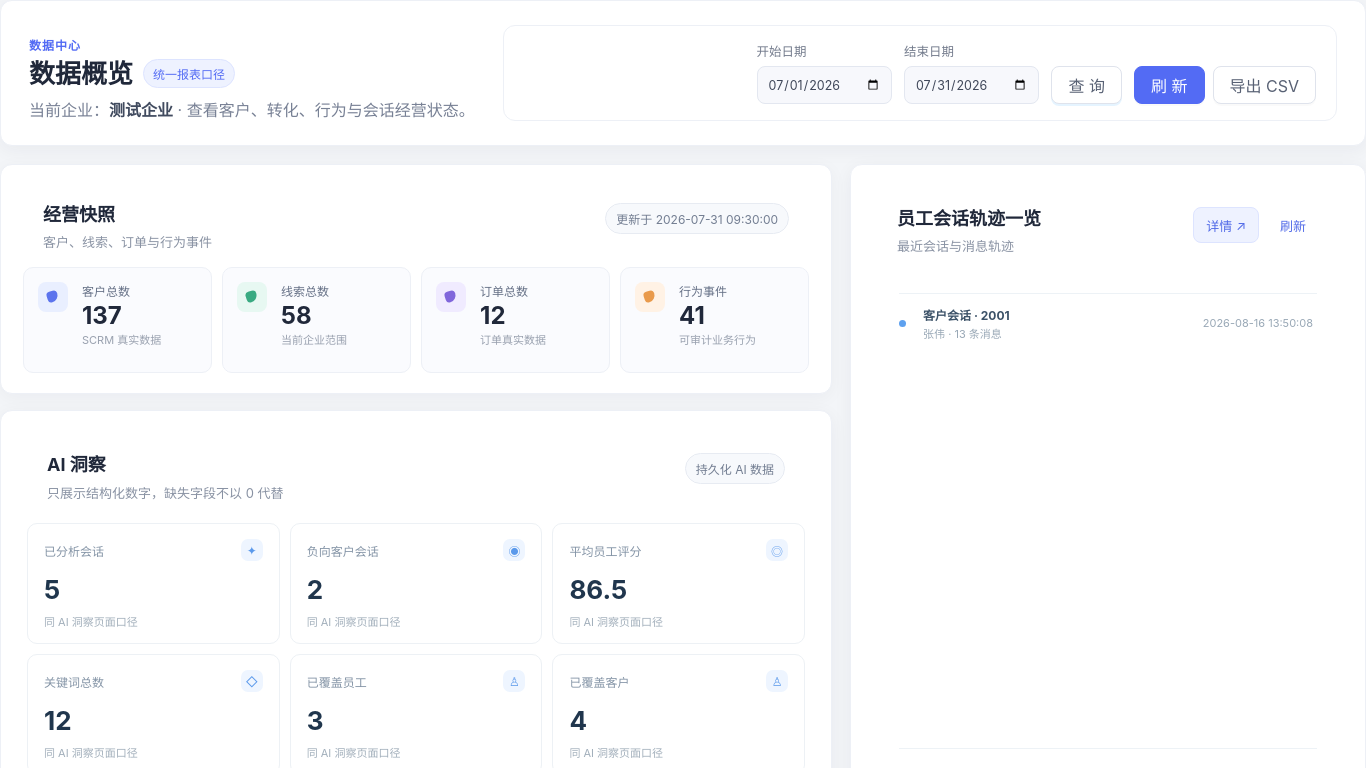
Test: DashboardOverviewPage › removes previously loaded statistics when refresh loses corp authorization
Expected: the text "137" is shown, [82,301,122,330]
Step 1. Click the button named "刷新" → (1169, 85), box [1134,66,1204,104]
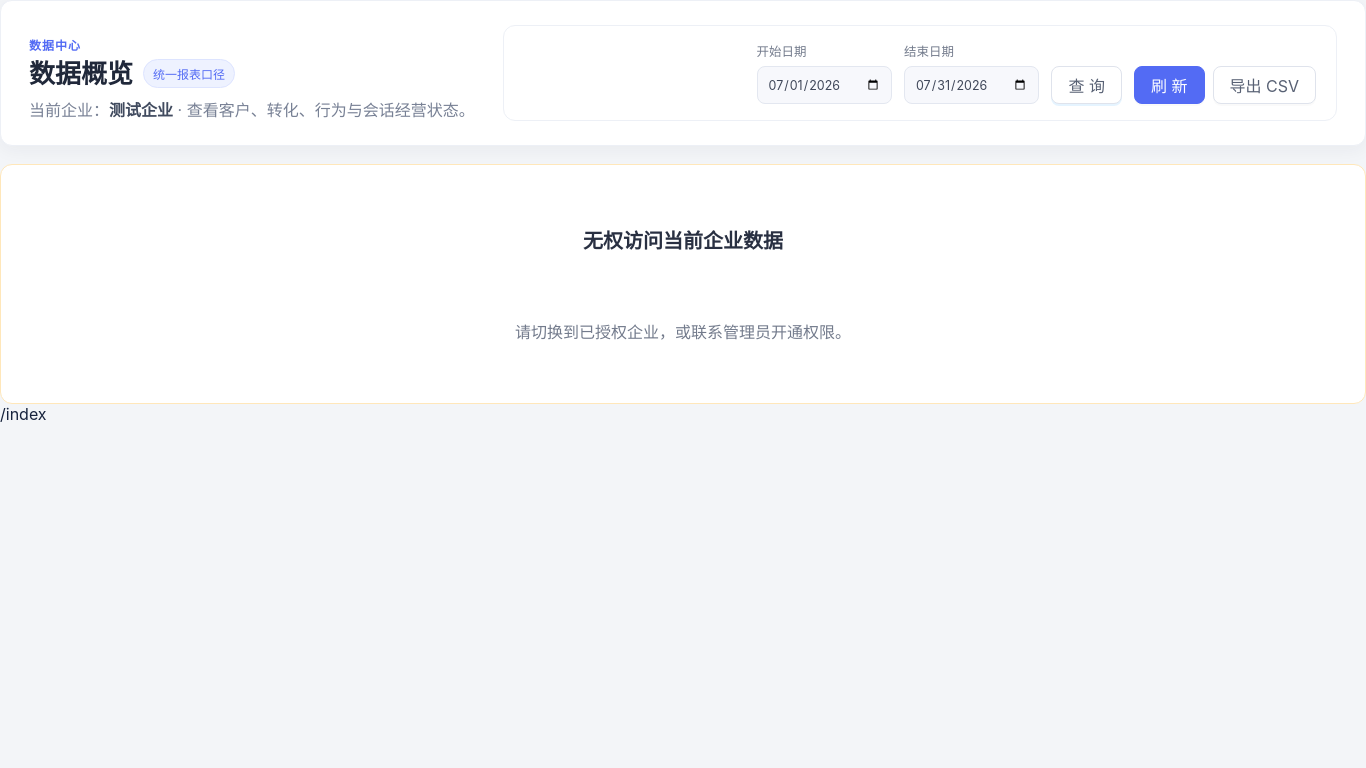
Result: the heading "无权访问当前企业数据" is shown at [583,225,783,254]
Result: the text "137" is gone
